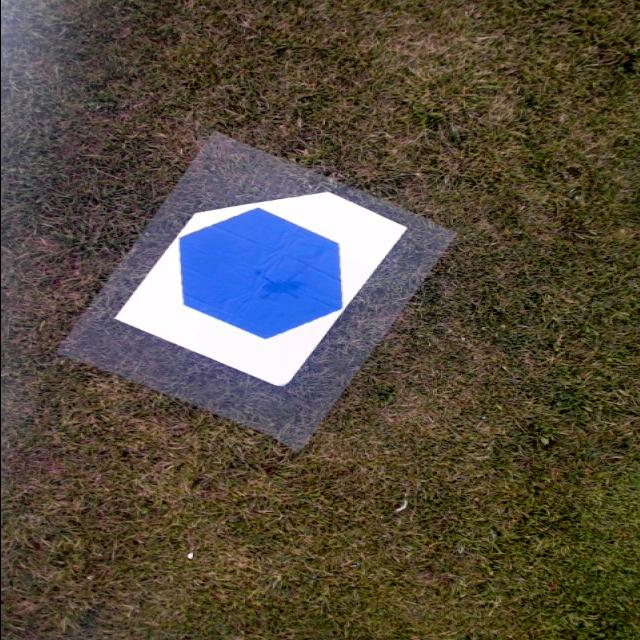blue_hexagon: (178, 208, 342, 341)
